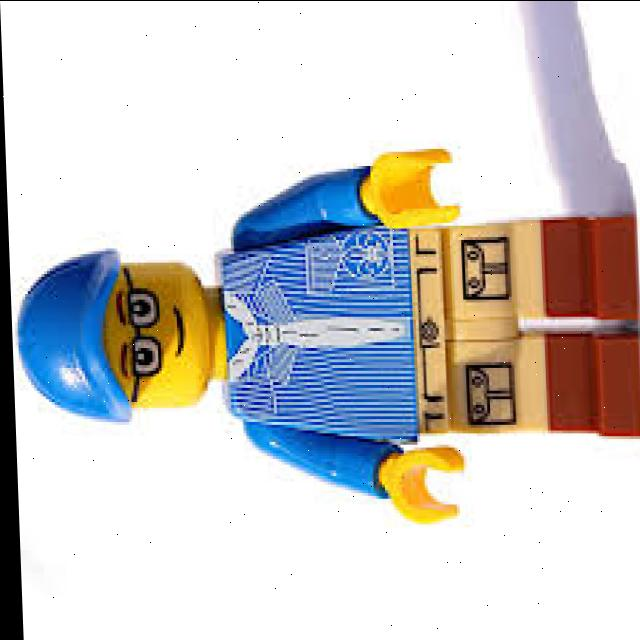Dry: (4, 146, 640, 522)
